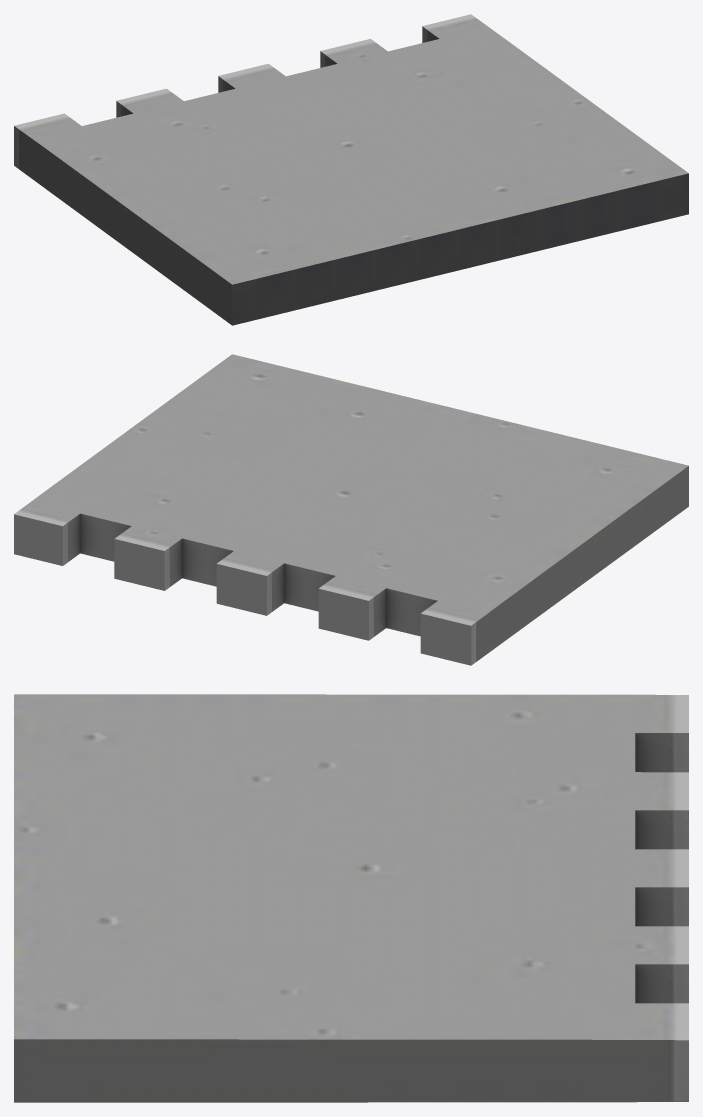
Rendered from CastleWall.fbx.
3 views of the same model, one above another, from view 1: azimuth 30°, elevation 25°; view 2: azimuth 150°, elevation 25°; view 3: azimuth 270°, elevation 25° (orthographic). The views are drawn at different scales.
Visible parts, largest first — view 1: CastleWall; view 2: CastleWall; view 3: CastleWall.
Part boxes in pixels (box(x1,y1,x2,y2)): CastleWall: box(14, 14, 688, 325); CastleWall: box(14, 354, 688, 665); CastleWall: box(14, 694, 688, 1102).
Size of the model in its own units: 356 by 30.46 by 294.
